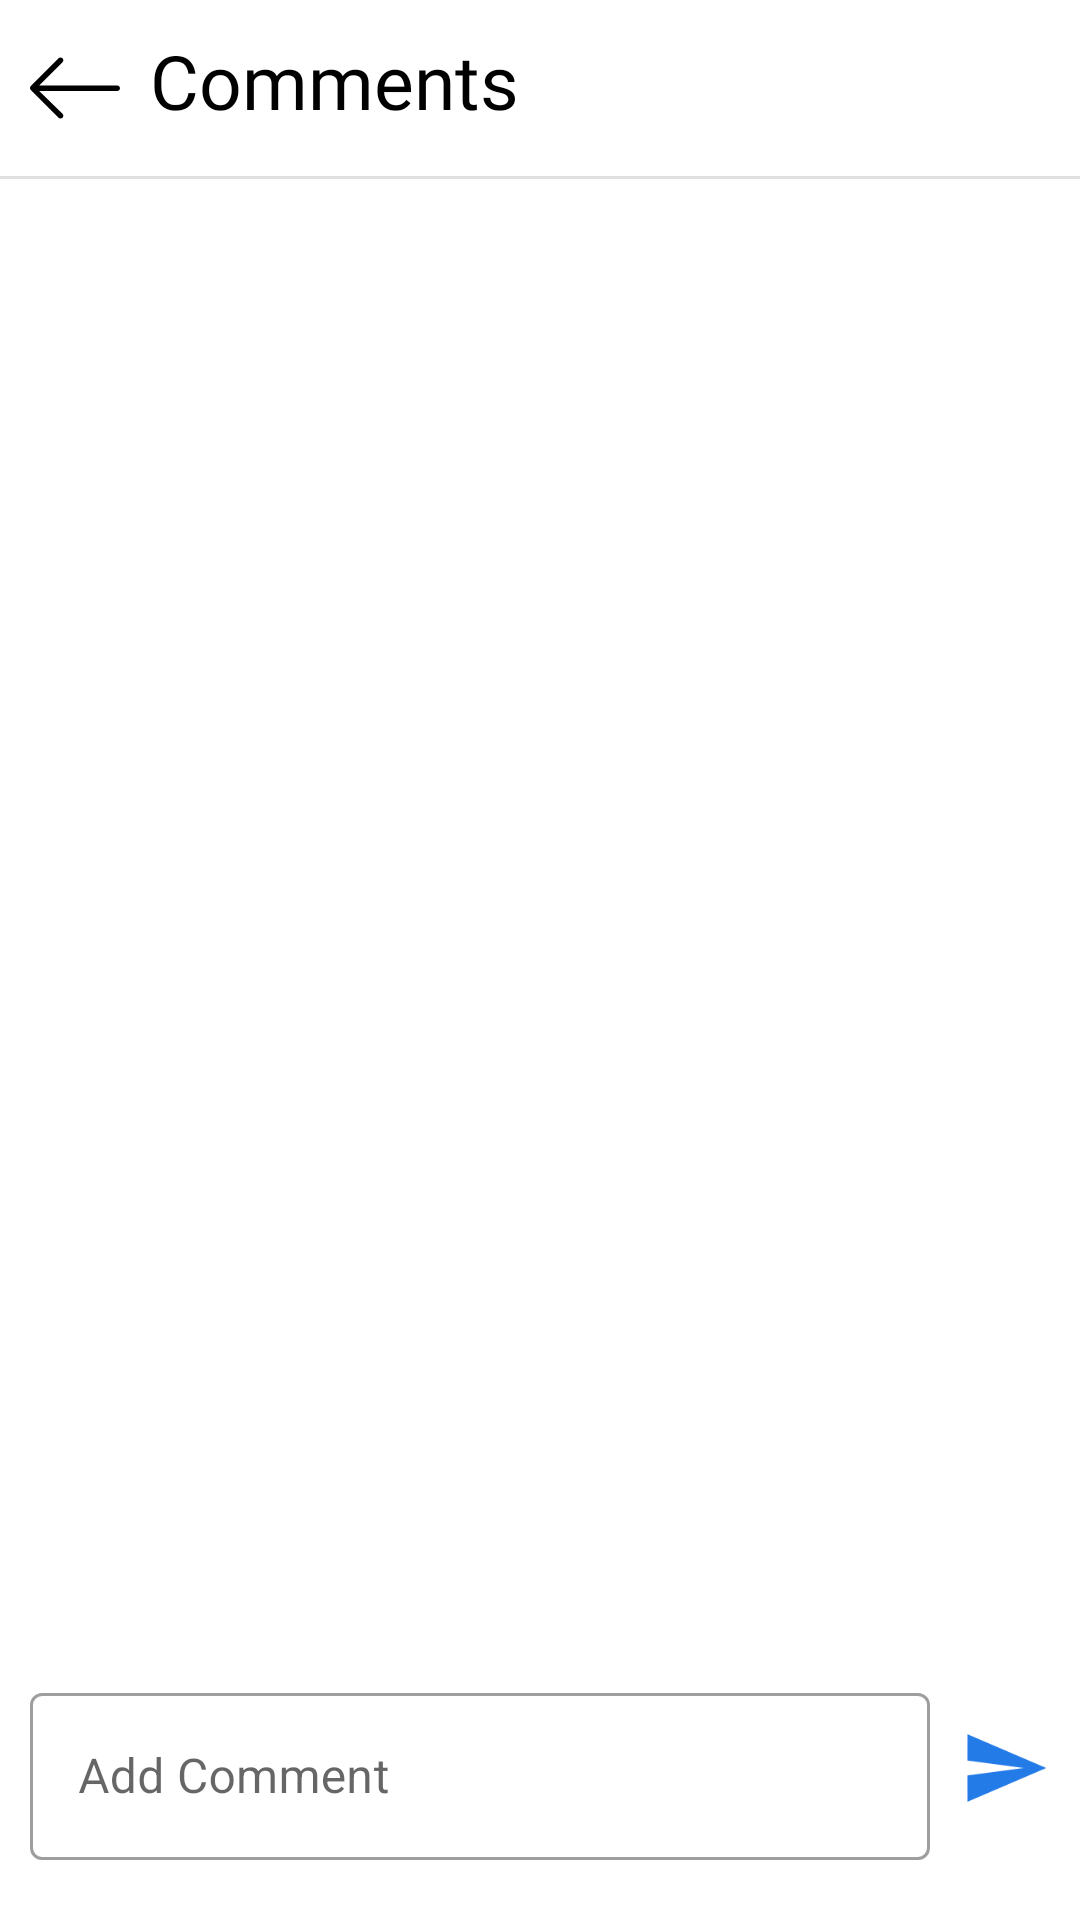

Icon click points for this 1080px x 1920px phone screenshot, format (x,y):
back: (75,88)
send: (1006,1768)
